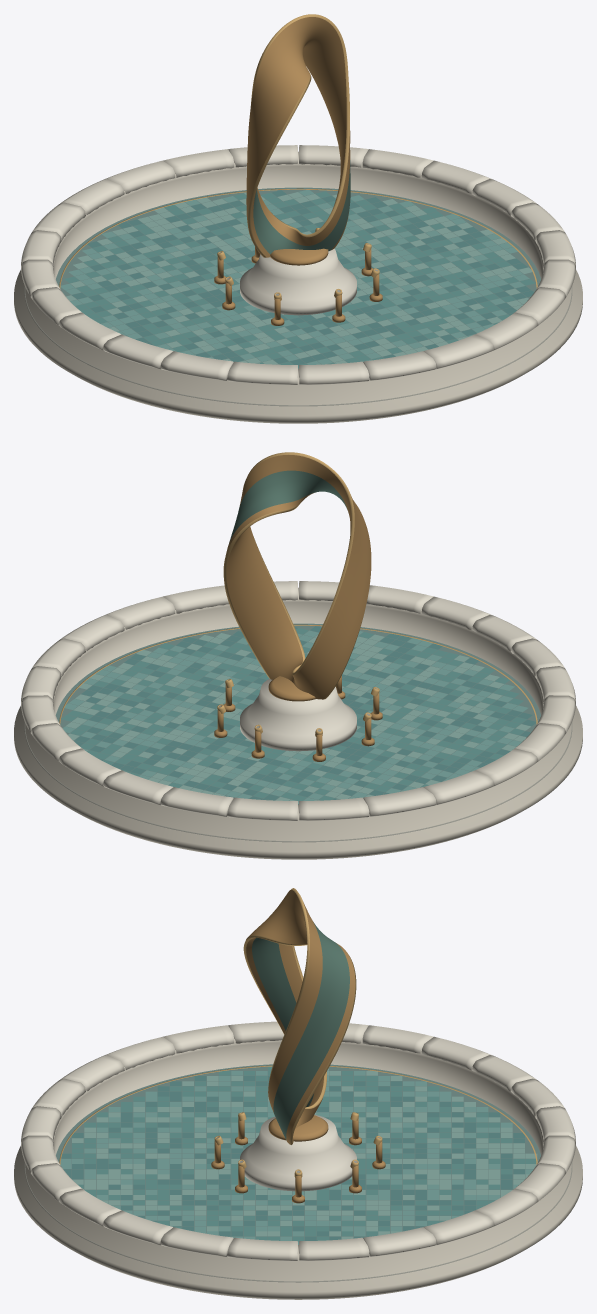
File: fountain.glb
3 views of the same model, one above another, from view 1: azimuth 30°, elevation 25°; view 2: azimuth 150°, elevation 25°; view 3: azimuth 270°, elevation 25° (orthographic).
Parts seen in each view (by area): view 1: Fountain warm limestone, Fountain honed coping, Fountain submerged grout, Fountain glazed mosaic 0, Fountain glazed mosaic 1, Fountain glazed mosaic 2, Fountain satin bronze, Fountain glazed mosaic 3, Fountain polished bronze edges, Fountain bronze patina, Fountain stone joints; view 2: Fountain warm limestone, Fountain honed coping, Fountain satin bronze, Fountain submerged grout, Fountain glazed mosaic 1, Fountain glazed mosaic 0, Fountain glazed mosaic 3, Fountain glazed mosaic 2, Fountain polished bronze edges, Fountain bronze patina, Fountain stone joints; view 3: Fountain warm limestone, Fountain honed coping, Fountain glazed mosaic 0, Fountain submerged grout, Fountain glazed mosaic 2, Fountain glazed mosaic 1, Fountain glazed mosaic 3, Fountain satin bronze, Fountain bronze patina, Fountain polished bronze edges, Fountain stone joints.
Boxes of the visible parts, <box> form: Fountain warm limestone: <box>14,151,582,423</box>; Fountain honed coping: <box>21,145,575,384</box>; Fountain submerged grout: <box>56,187,540,368</box>; Fountain glazed mosaic 0: <box>64,191,535,367</box>; Fountain glazed mosaic 1: <box>60,190,529,368</box>; Fountain glazed mosaic 2: <box>66,192,532,364</box>; Fountain satin bronze: <box>214,17,382,325</box>; Fountain glazed mosaic 3: <box>72,190,533,364</box>; Fountain polished bronze edges: <box>59,14,537,300</box>; Fountain bronze patina: <box>253,160,350,254</box>; Fountain stone joints: <box>24,244,572,406</box>; Fountain warm limestone: <box>14,587,582,859</box>; Fountain honed coping: <box>21,581,575,820</box>; Fountain satin bronze: <box>214,455,382,761</box>; Fountain submerged grout: <box>55,623,541,804</box>; Fountain glazed mosaic 1: <box>63,630,527,800</box>; Fountain glazed mosaic 0: <box>61,628,526,800</box>; Fountain glazed mosaic 3: <box>74,626,536,804</box>; Fountain glazed mosaic 2: <box>66,633,530,803</box>; Fountain polished bronze edges: <box>59,452,537,736</box>; Fountain bronze patina: <box>229,470,347,542</box>; Fountain stone joints: <box>24,680,572,842</box>; Fountain warm limestone: <box>14,1039,582,1299</box>; Fountain honed coping: <box>21,1021,575,1260</box>; Fountain glazed mosaic 0: <box>72,1066,536,1241</box>; Fountain submerged grout: <box>56,1064,540,1240</box>; Fountain glazed mosaic 2: <box>72,1068,537,1239</box>; Fountain glazed mosaic 1: <box>60,1071,533,1244</box>; Fountain glazed mosaic 3: <box>59,1076,524,1240</box>; Fountain satin bronze: <box>211,890,385,1203</box>; Fountain bronze patina: <box>252,922,349,1140</box>; Fountain polished bronze edges: <box>59,888,537,1177</box>; Fountain stone joints: <box>24,1137,572,1282</box>.
Bounding box in the file's own units: 6.5 × 3.65 × 6.5.
